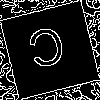C: (24, 24, 71, 79)
